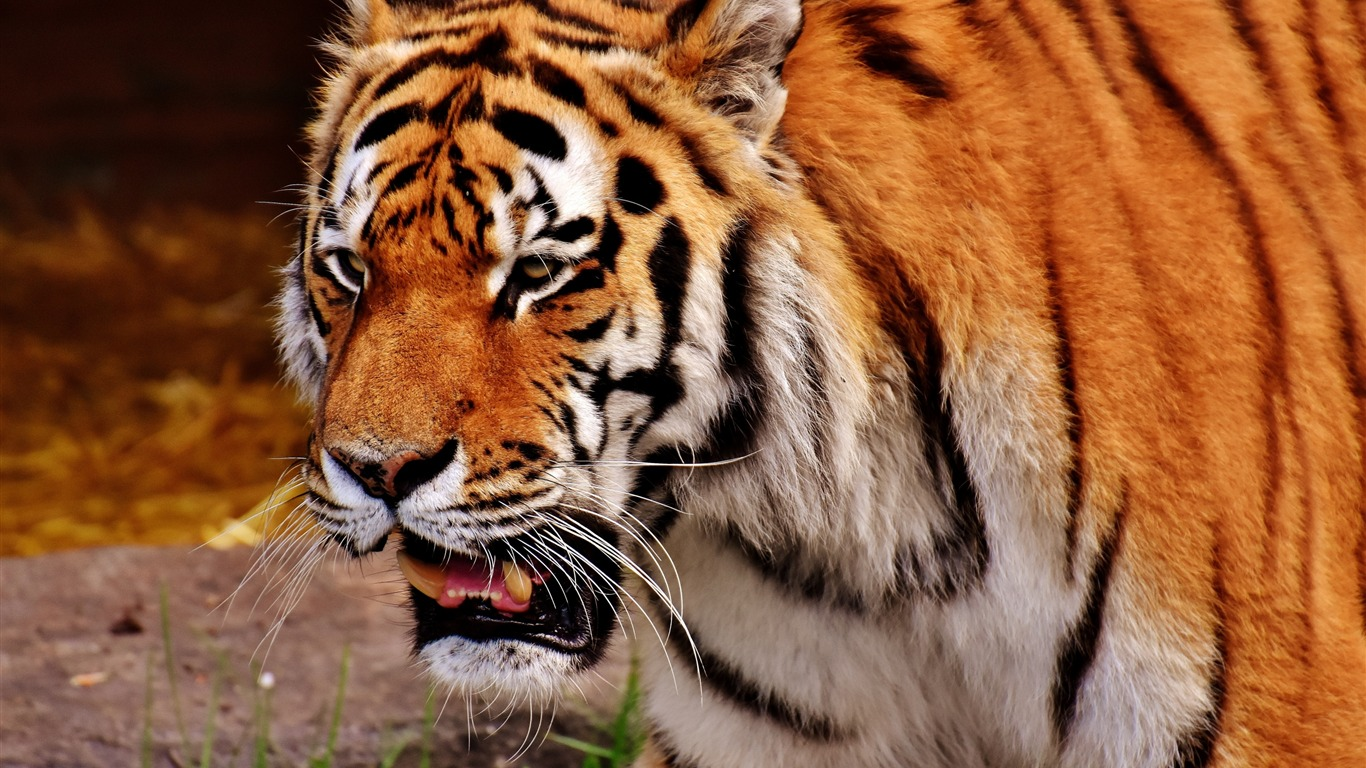Tigrew: (243, 17, 1272, 702)
